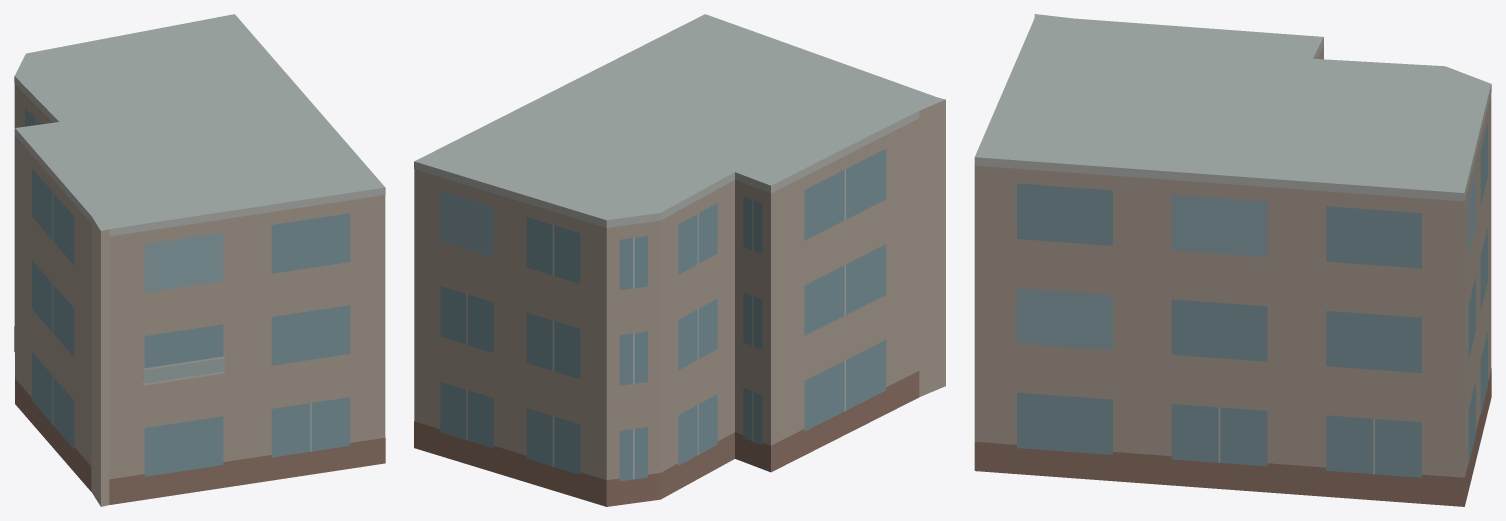
File: survey-upis-32673115.glb
3 views of the same model, side by side, from view 1: azimuth 30°, elevation 25°; view 2: azimuth 150°, elevation 25°; view 3: azimuth 270°, elevation 25° (orthographic). The views are drawn at different scales.
Visible parts, largest first — view 1: survey-upis-32673115.tmp; view 2: survey-upis-32673115.tmp; view 3: survey-upis-32673115.tmp.
Part boxes in pixels (bbox=[...]): survey-upis-32673115.tmp: bbox=[14, 14, 385, 506]; survey-upis-32673115.tmp: bbox=[414, 14, 945, 506]; survey-upis-32673115.tmp: bbox=[974, 14, 1491, 506].
Bounding box in the file's own units: 11.21 × 9.15 × 13.67.
